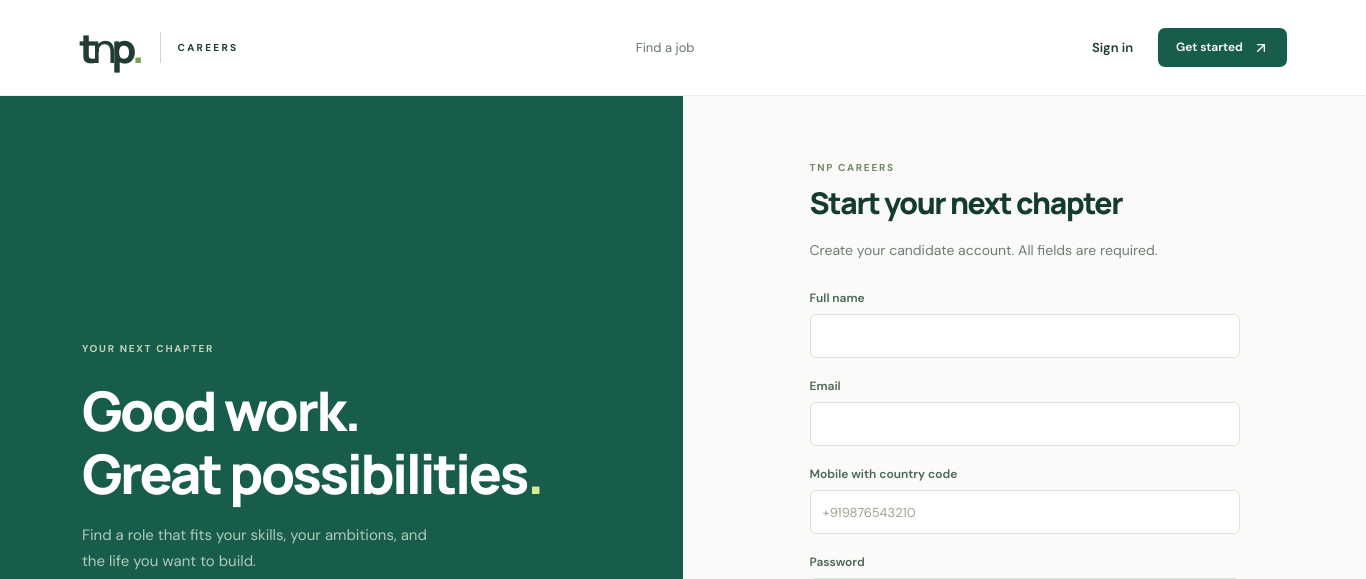
Scenario: validates email on blur and updates the error while correcting it without submitting
The width and height of the screenshot is (1366, 579).
Type "wrong-email" into the field labelled "Email" at {"x": 1024, "y": 424}, box [810,402,1240,446]
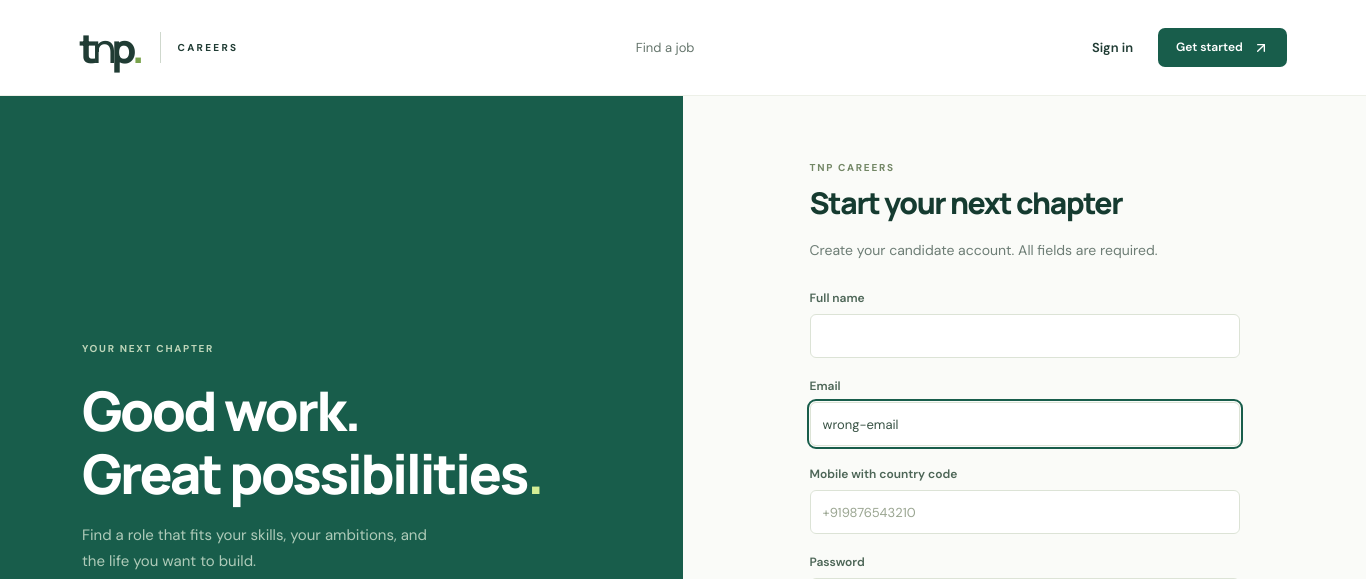
Check: the text "Enter a valid email address" is not shown
Press Tab
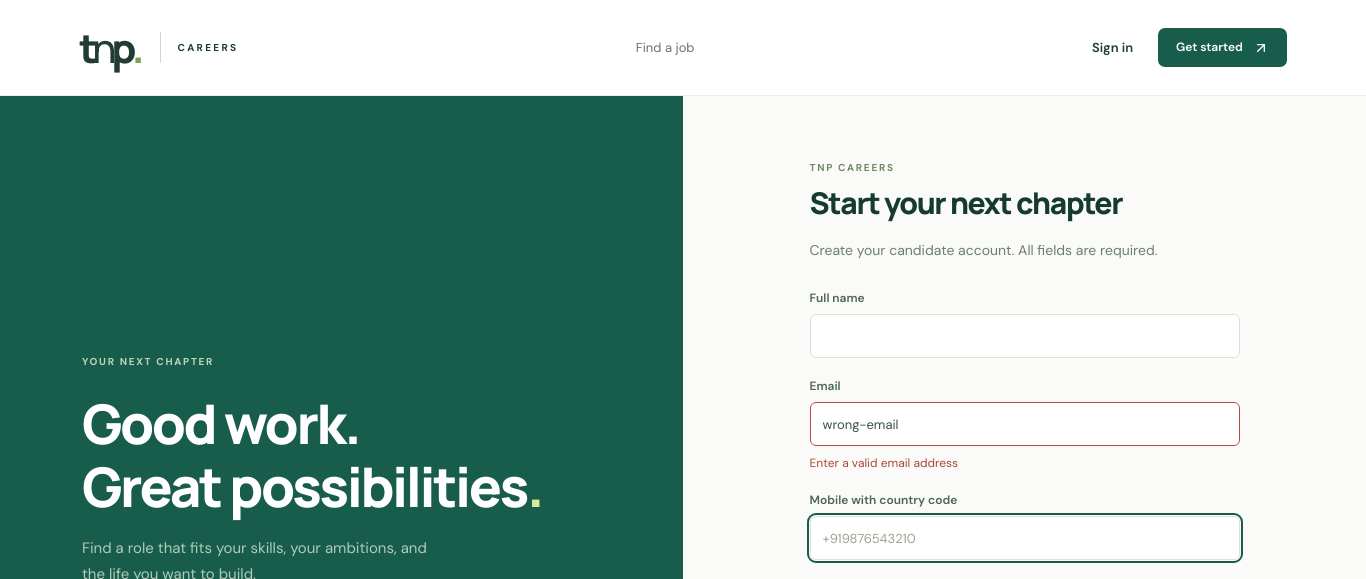
Check: the text "Enter a valid email address" is shown, box [810,455,958,471]
Clear the field labelled "Email" at {"x": 1024, "y": 424}, box [810,402,1240,446]
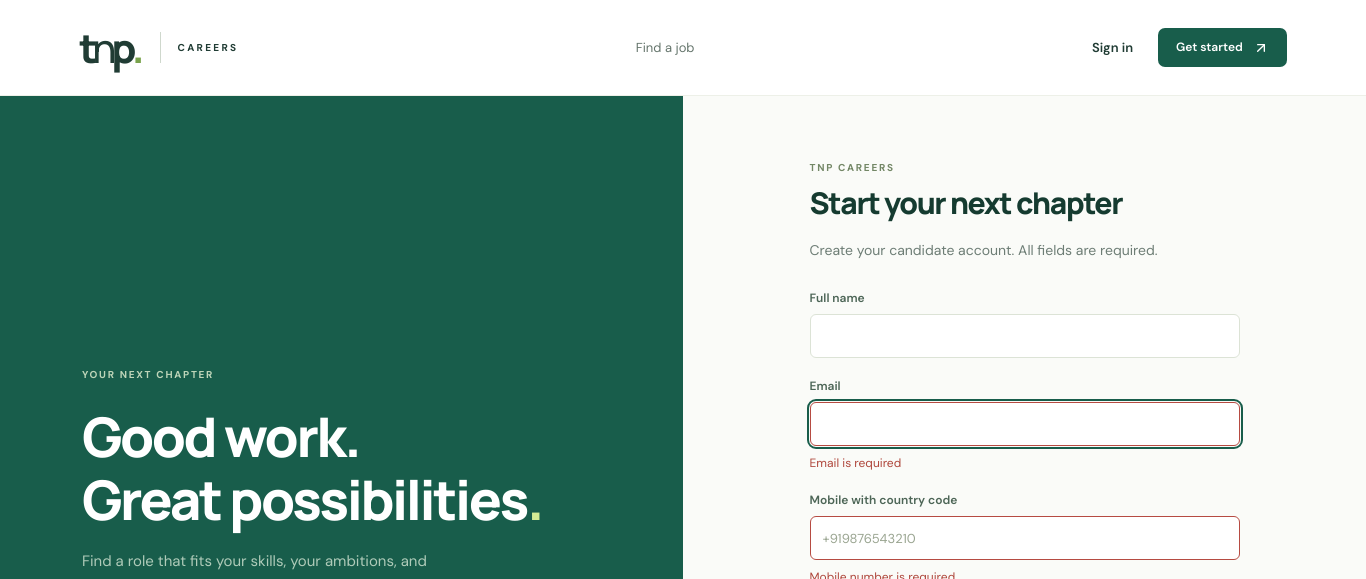
Check: the text "Email is required" is shown, box [810,455,901,471]
Type "candidate@example.test" into the field labelled "Email" at {"x": 1024, "y": 424}, box [810,402,1240,446]
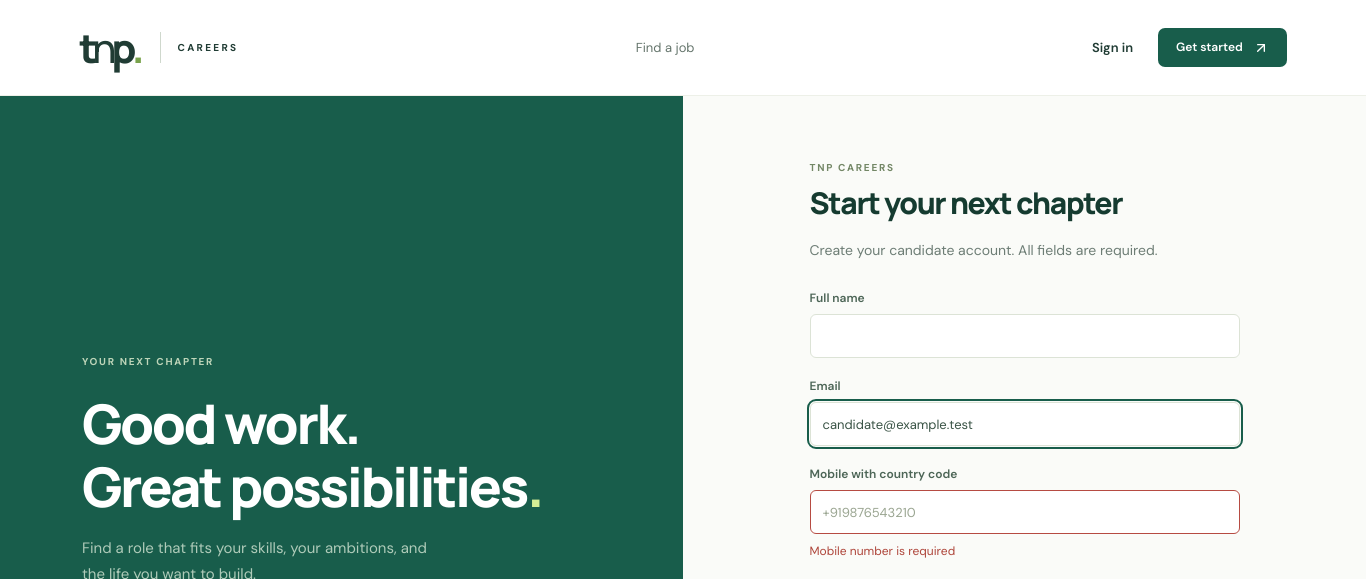
Check: the text "Enter a valid email address" is not shown
Check: the text "Email is required" is gone
